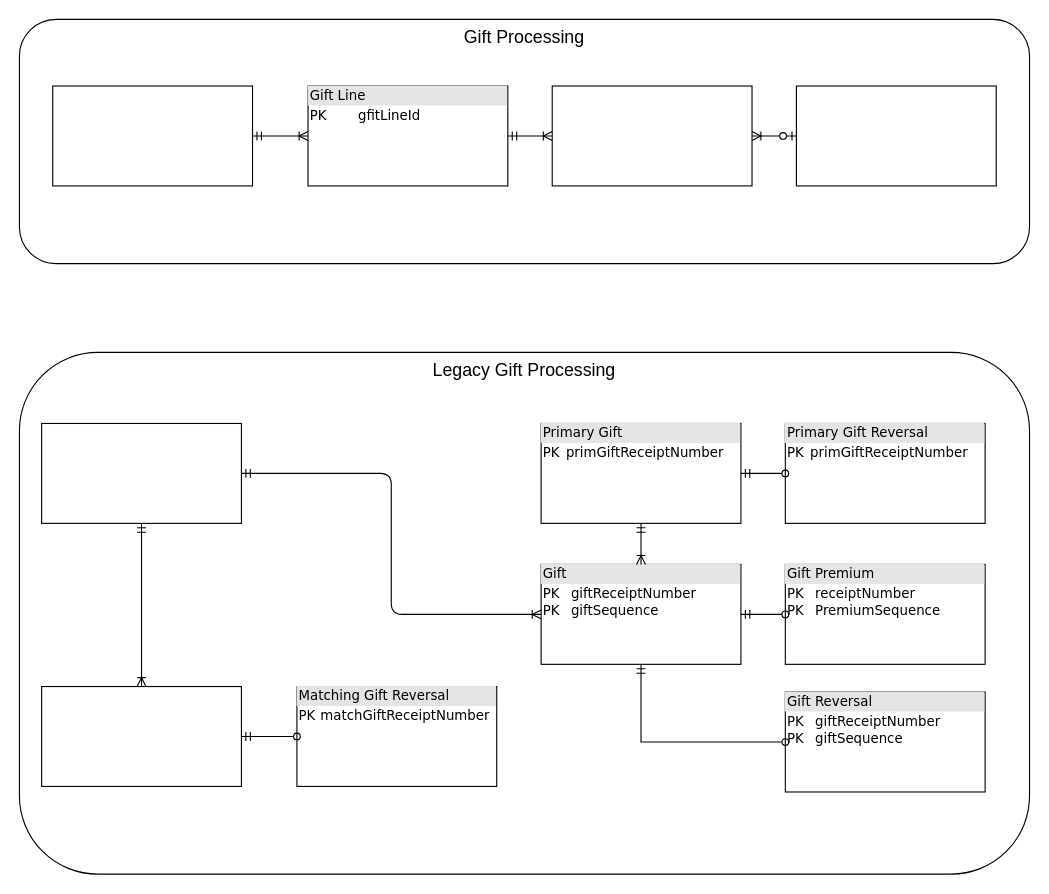
Image size: 1049x894. Some labels were removed from this diagram. Each missing label, with the centre of its shape:
"Entity PK idNumber" goes at pixel 141 472.
"Gift Donor PK giftDonorId" goes at pixel 651 135.
"Gift PK giftId" goes at pixel 152 135.
"Matching Gift PK matchGiftReceiptNumber" goes at pixel 141 735.
"Premium PK premiumId" goes at pixel 895 135.
